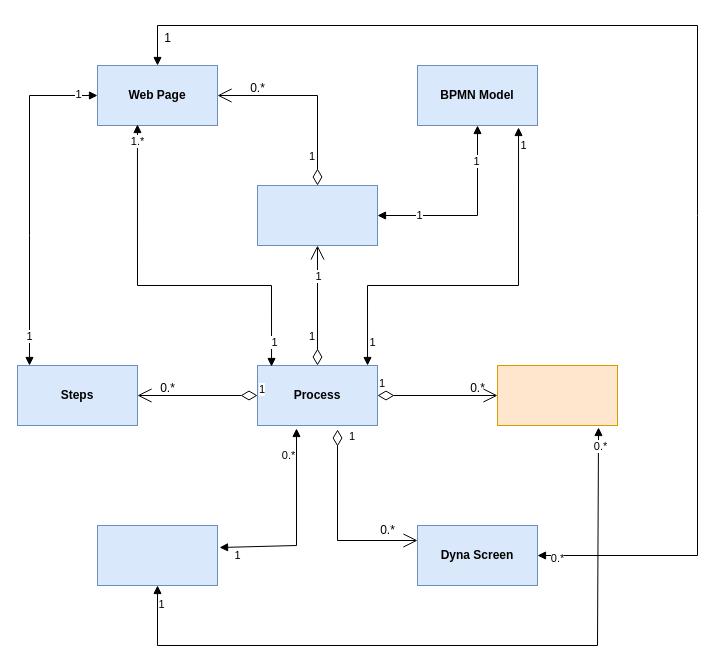
This 724x672 diagram has some shape labels left out. Here are the shapes that lost their labels. From the top down, the centre of each, then its label:
the point at 317,215: Process Definition
the point at 557,395: Transactions
the point at 157,555: USER
